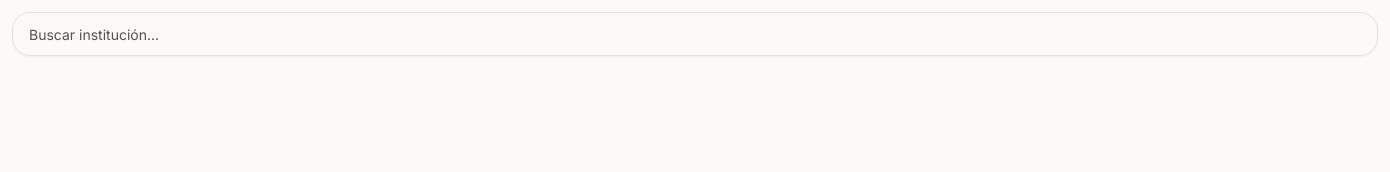
Test: InstitucionTypeahead contract › shows 'Crear' button when query >= 2 chars and results are empty
The width and height of the screenshot is (1390, 172).
In the dropdown with placeholder "Buscar institución...": [695, 34] box x1=12 y1=12 x2=1378 y2=56, type "Nuevo recurso"
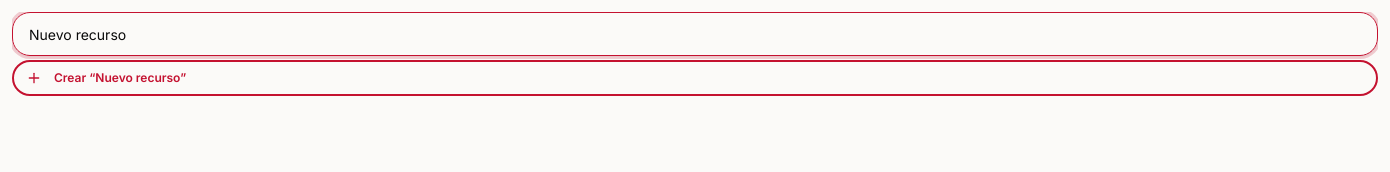
Result: the button "Crear “Nuevo recurso”" is shown at x1=12 y1=60 x2=1378 y2=96
